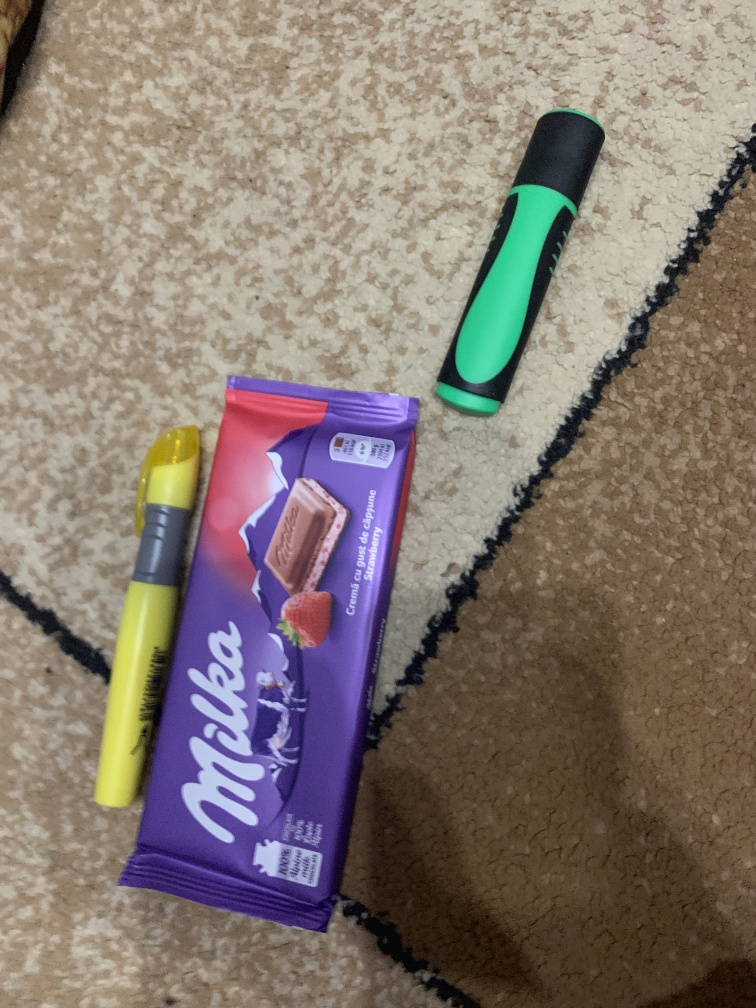milka: (116, 370, 421, 932)
